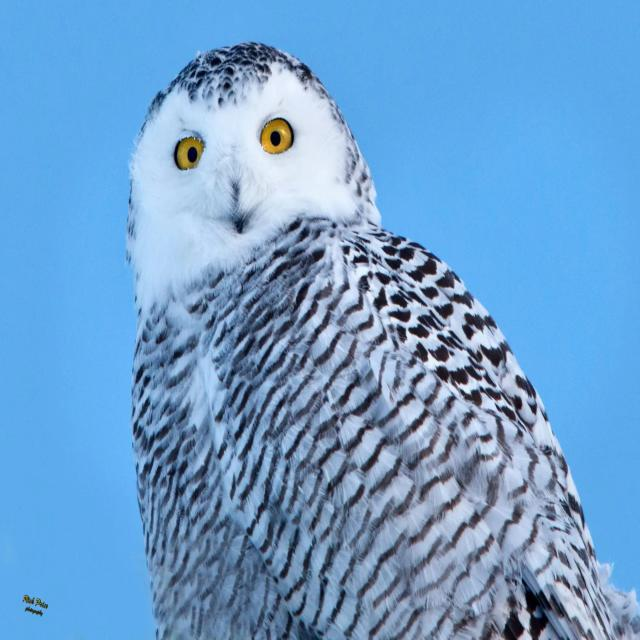owl: (70, 32, 640, 640)
